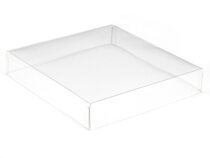PlasticBox: (4, 23, 206, 133)
